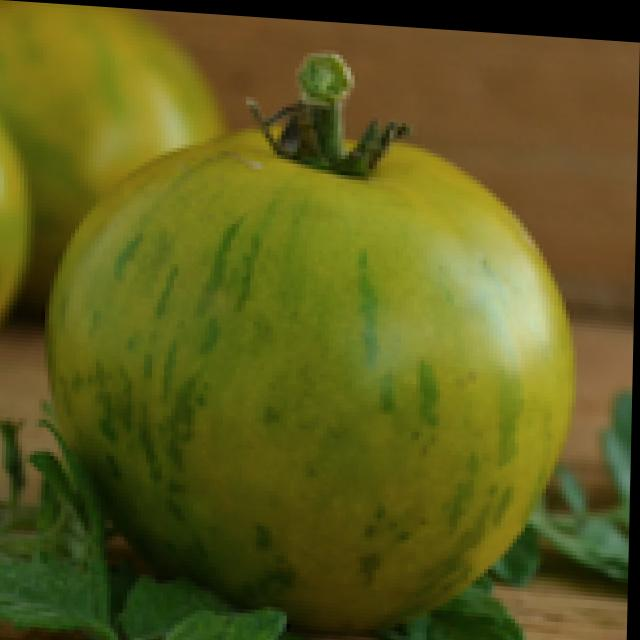yesil: (29, 55, 599, 640)
